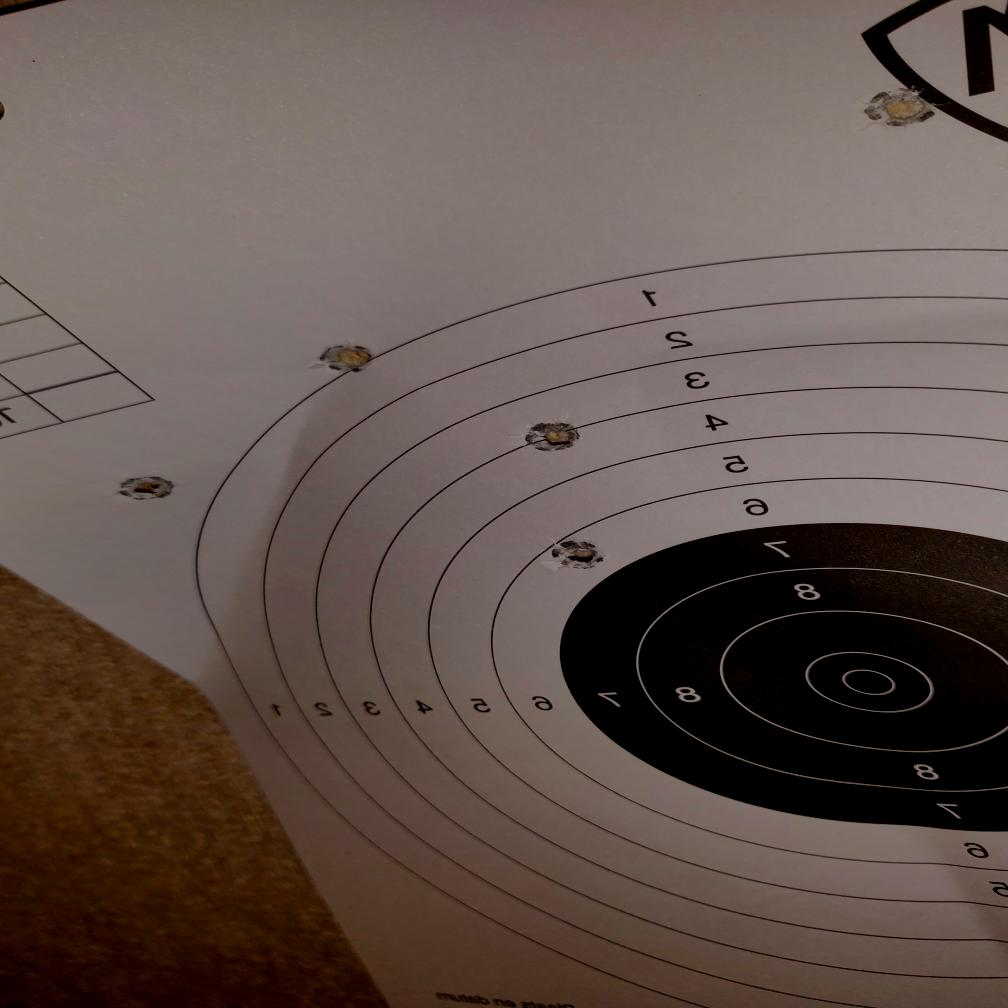0: (860, 89, 945, 128), (113, 474, 176, 502)
1: (311, 338, 376, 373)
4: (518, 422, 583, 452)
6: (540, 538, 606, 570)
Target: (188, 246, 1008, 1007)
black_contour: (568, 518, 1008, 832)
